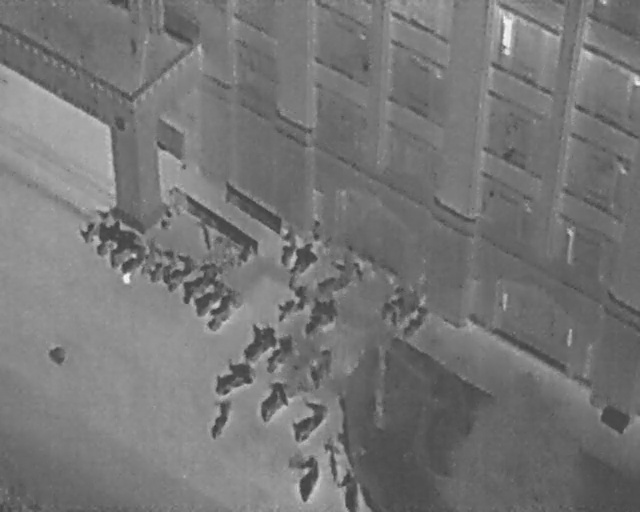Bicycle: (292, 287, 347, 346), (281, 393, 334, 448), (173, 253, 223, 309), (205, 351, 259, 401), (232, 316, 282, 368), (198, 284, 247, 337), (249, 375, 298, 428), (185, 270, 233, 321), (269, 279, 315, 330), (284, 234, 323, 292), (110, 236, 156, 285), (84, 212, 130, 259), (257, 329, 301, 377), (373, 282, 416, 329), (396, 298, 437, 344), (98, 225, 141, 268), (72, 200, 114, 243), (290, 453, 324, 506), (158, 250, 198, 294), (315, 261, 358, 300), (145, 245, 180, 285), (205, 397, 236, 441), (273, 225, 301, 268), (136, 238, 160, 277), (341, 467, 362, 511), (323, 437, 341, 481)
